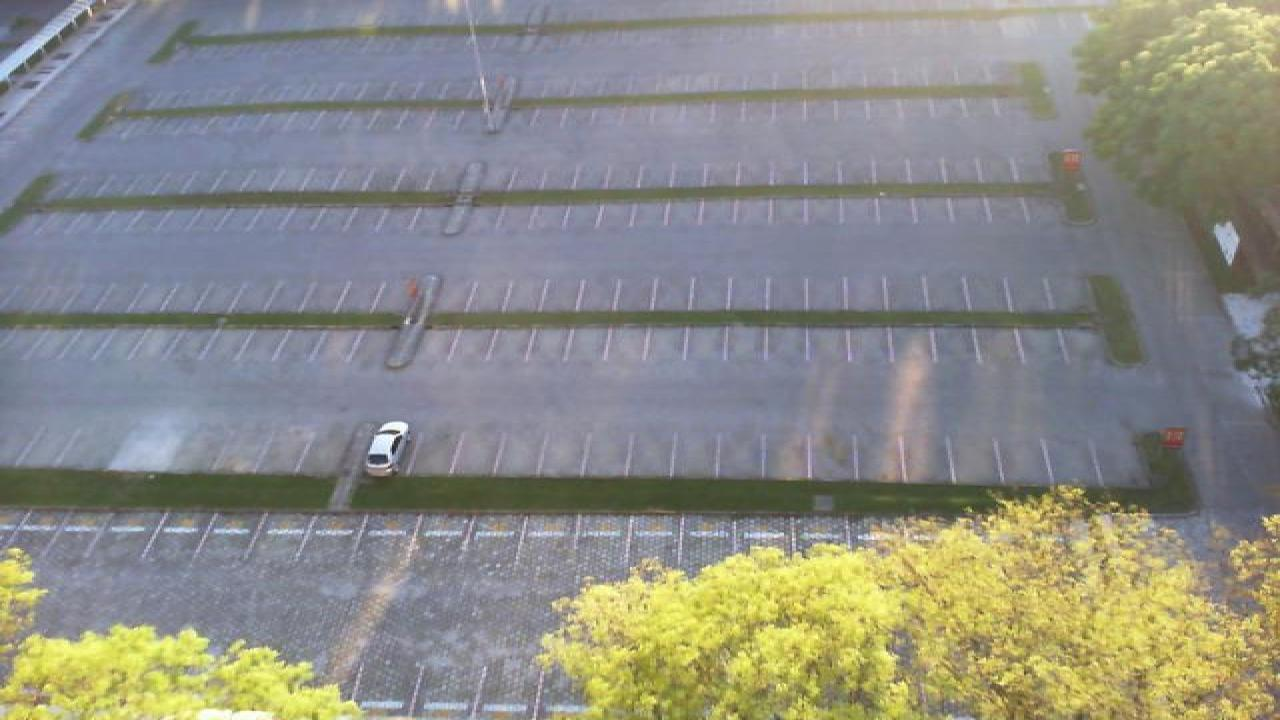Car: (362, 421, 410, 477)
